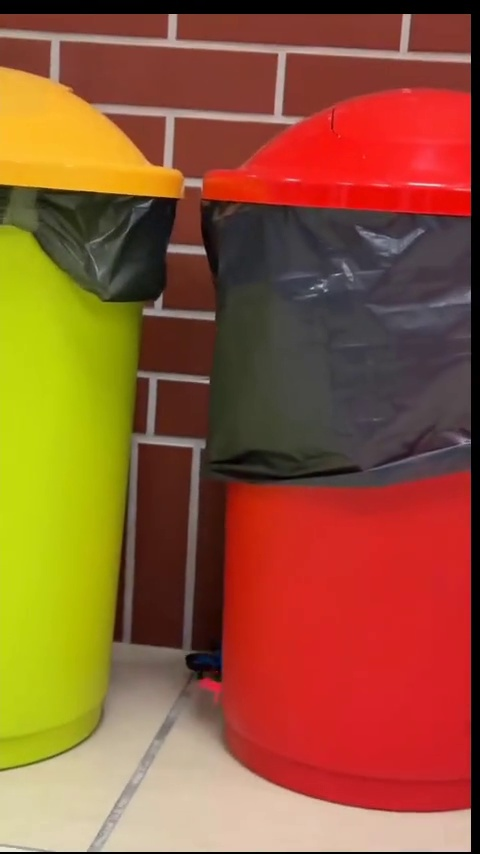drone: (181, 640, 221, 680)
